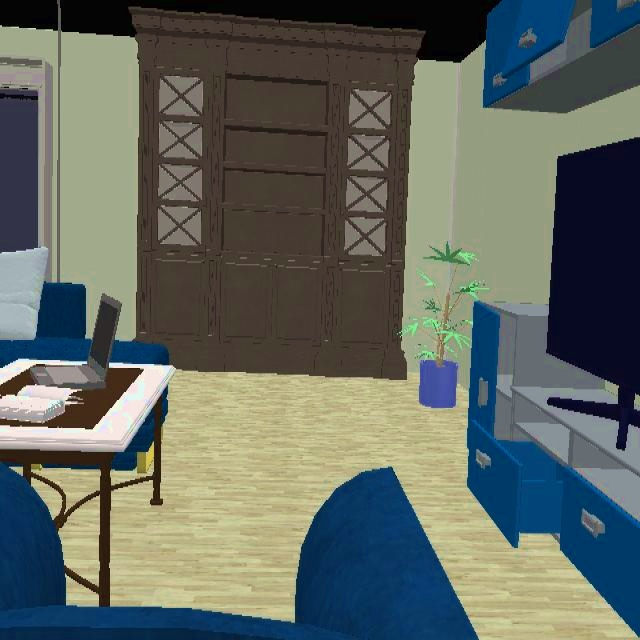book: (0, 387, 78, 424)
bookshelf: (136, 15, 421, 377)
cabinet: (467, 301, 640, 640), (483, 0, 640, 115)
laptop: (29, 295, 122, 391)
monitor: (546, 137, 640, 451)
pillow: (0, 247, 50, 344)
sofa: (0, 463, 479, 640), (0, 283, 92, 369), (111, 340, 169, 364)
table: (0, 363, 176, 553), (0, 359, 35, 397)
